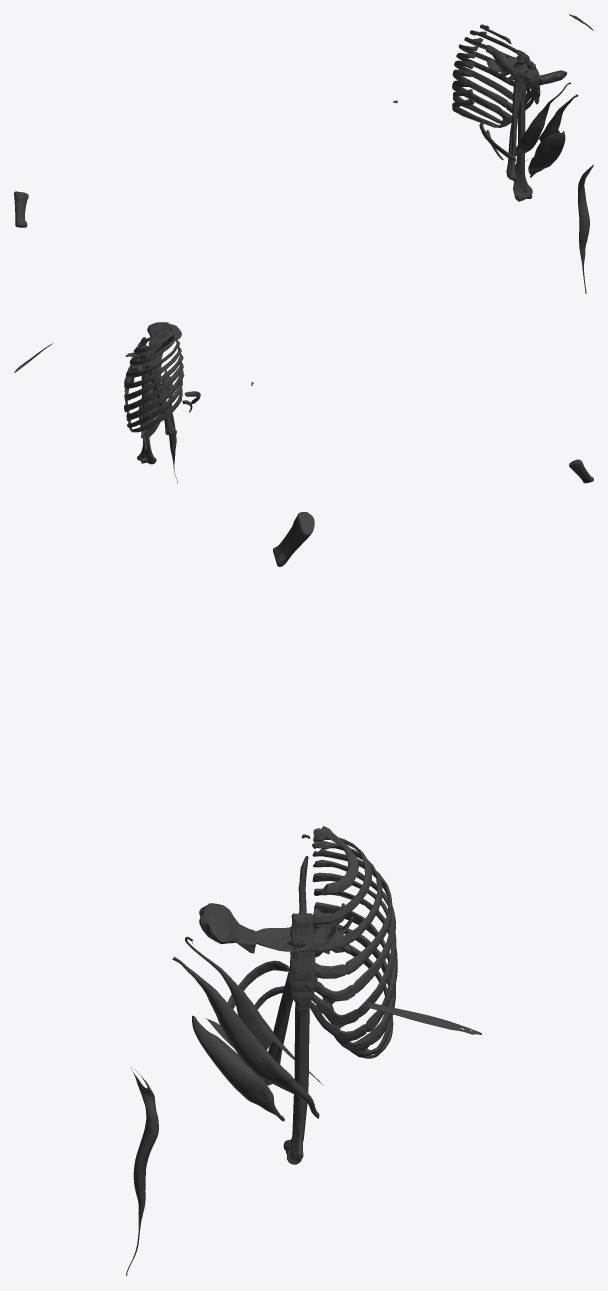
The model's file is sharedassets41.glb.
3 renders of one model, top to bottom at view 1: azimuth 30°, elevation 25°; view 2: azimuth 150°, elevation 25°; view 3: azimuth 270°, elevation 25°, orthographic. The views are drawn at different scales.
Visible parts, largest first — view 1: 0006_Humerus _arm, brachium_, R__000807, 0002_Brachialis, R__100062, 0003_Brachioradialis, R__100064, 0000_Biceps brachii, long head, R__100052, 0034_Ulna _forearm, antebrachium_, R__000808, 0074_Seventh rib _07_, R__002279, 0073_Sixth rib _06_, R__002278, 0065_Eighth rib _08_, R__002280, 0005_Scapula, R__000991, 0010_2nd Middle phalanx _hand_, R__000815, 0001_Biceps brachii, short head, R__100054, 0066_Ninth rib _09_, R__002281 (+3 smaller); view 2: 0006_Humerus _arm, brachium_, R__000807, 0065_Eighth rib _08_, R__002280, 0074_Seventh rib _07_, R__002279, 0061_Manubrium__001162, 0073_Sixth rib _06_, R__002278, 0066_Ninth rib _09_, R__002281, 0072_Fifth rib _05_, R__002277, 0067_Tenth rib _10_, R__002282, 0071_Fourth rib _04_, R__002276, 0010_2nd Middle phalanx _hand_, R__000815, 0003_Brachioradialis, R__100064, 0070_Third rib _03_, R__002275; view 3: 0001_Biceps brachii, short head, R__100054, 0002_Brachialis, R__100062, 0006_Humerus _arm, brachium_, R__000807, 0062_Body of sternum__001163, 0003_Brachioradialis, R__100064, 0061_Manubrium__001162, 0073_Sixth rib _06_, R__002278, 0072_Fifth rib _05_, R__002277, 0000_Biceps brachii, long head, R__100052, 0074_Seventh rib _07_, R__002279, 0005_Scapula, R__000991, 0071_Fourth rib _04_, R__002276 (+5 smaller).
Part boxes in pixels (bbox=[...]): 0006_Humerus _arm, brachium_, R__000807: bbox=[513, 70, 532, 201]; 0002_Brachialis, R__100062: bbox=[528, 130, 565, 177]; 0003_Brachioradialis, R__100064: bbox=[578, 164, 593, 293]; 0000_Biceps brachii, long head, R__100052: bbox=[515, 82, 570, 155]; 0034_Ulna _forearm, antebrachium_, R__000808: bbox=[509, 58, 527, 182]; 0074_Seventh rib _07_, R__002279: bbox=[452, 69, 533, 112]; 0073_Sixth rib _06_, R__002278: bbox=[454, 60, 532, 103]; 0065_Eighth rib _08_, R__002280: bbox=[452, 80, 517, 123]; 0005_Scapula, R__000991: bbox=[487, 52, 539, 78]; 0010_2nd Middle phalanx _hand_, R__000815: bbox=[14, 191, 28, 227]; 0001_Biceps brachii, short head, R__100054: bbox=[515, 94, 578, 170]; 0066_Ninth rib _09_, R__002281: bbox=[452, 89, 509, 125]; 0006_Humerus _arm, brachium_, R__000807: bbox=[137, 354, 156, 464]; 0065_Eighth rib _08_, R__002280: bbox=[126, 370, 184, 421]; 0074_Seventh rib _07_, R__002279: bbox=[124, 362, 183, 412]; 0061_Manubrium__001162: bbox=[147, 322, 181, 347]; 0073_Sixth rib _06_, R__002278: bbox=[124, 353, 183, 401]; 0066_Ninth rib _09_, R__002281: bbox=[127, 380, 182, 427]; 0072_Fifth rib _05_, R__002277: bbox=[124, 346, 181, 388]; 0067_Tenth rib _10_, R__002282: bbox=[129, 388, 182, 432]; 0071_Fourth rib _04_, R__002276: bbox=[126, 339, 179, 377]; 0010_2nd Middle phalanx _hand_, R__000815: bbox=[569, 459, 593, 483]; 0003_Brachioradialis, R__100064: bbox=[167, 375, 177, 483]; 0070_Third rib _03_, R__002275: bbox=[130, 333, 177, 365]; 0001_Biceps brachii, short head, R__100054: bbox=[172, 957, 319, 1118]; 0002_Brachialis, R__100062: bbox=[192, 1015, 284, 1121]; 0006_Humerus _arm, brachium_, R__000807: bbox=[283, 952, 309, 1164]; 0062_Body of sternum__001163: bbox=[287, 913, 317, 1007]; 0003_Brachioradialis, R__100064: bbox=[126, 1067, 158, 1275]; 0061_Manubrium__001162: bbox=[199, 903, 256, 953]; 0073_Sixth rib _06_, R__002278: bbox=[312, 872, 396, 1027]; 0072_Fifth rib _05_, R__002277: bbox=[313, 859, 395, 1004]; 0000_Biceps brachii, long head, R__100052: bbox=[185, 936, 323, 1085]; 0074_Seventh rib _07_, R__002279: bbox=[308, 888, 397, 1044]; 0005_Scapula, R__000991: bbox=[251, 903, 353, 954]; 0071_Fourth rib _04_, R__002276: bbox=[312, 848, 392, 978].
Bounding box in the file's own units: 0.7785 × 0.2895 × 0.2267.
Materials: 1 (1 with a texture image).
